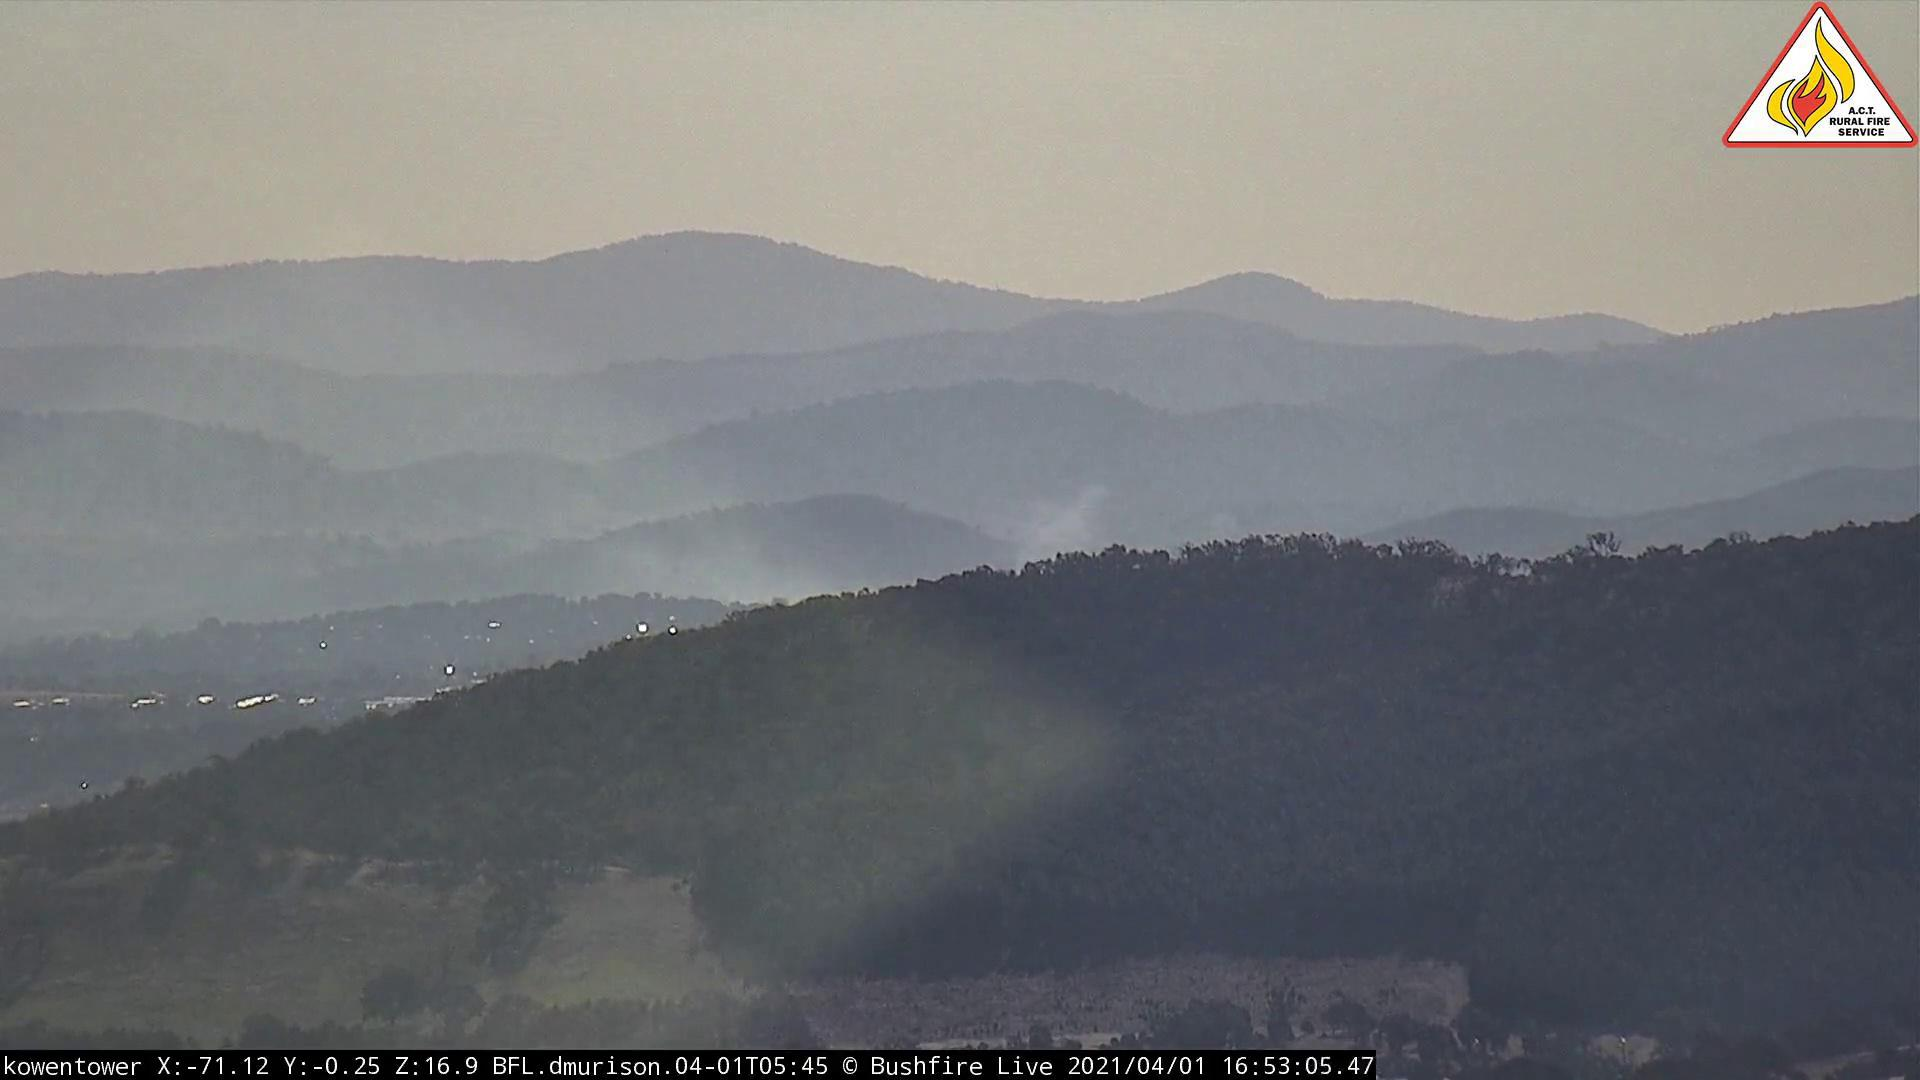Smoke: (541, 439, 1106, 626)
